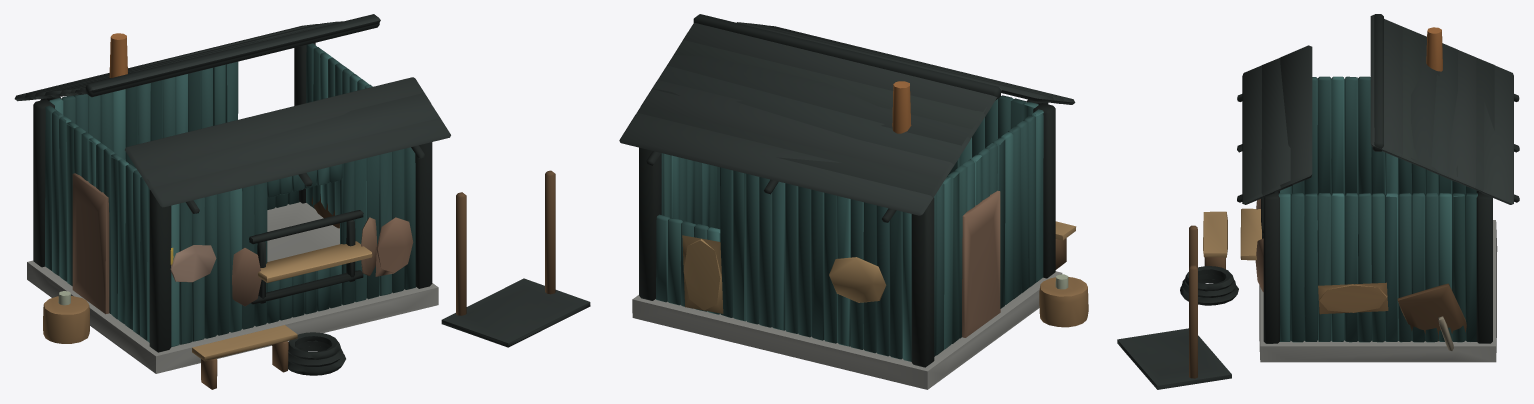
File: billing_booth_c_lod1.glb
The picture shows the model from 3 angles, left to right: view 1: azimuth 30°, elevation 25°; view 2: azimuth 150°, elevation 25°; view 3: azimuth 270°, elevation 25°; orthographic projection. The views are drawn at different scales.
Parts seen in each view (by area): view 1: Surface.001; view 2: Surface.001; view 3: Surface.001.
Part boxes in pixels (bbox=[...]): Surface.001: bbox=[14, 14, 590, 389]; Surface.001: bbox=[619, 14, 1088, 389]; Surface.001: bbox=[1117, 14, 1519, 389].
Bounding box in the file's own units: 7.49 × 4.1 × 6.42.
